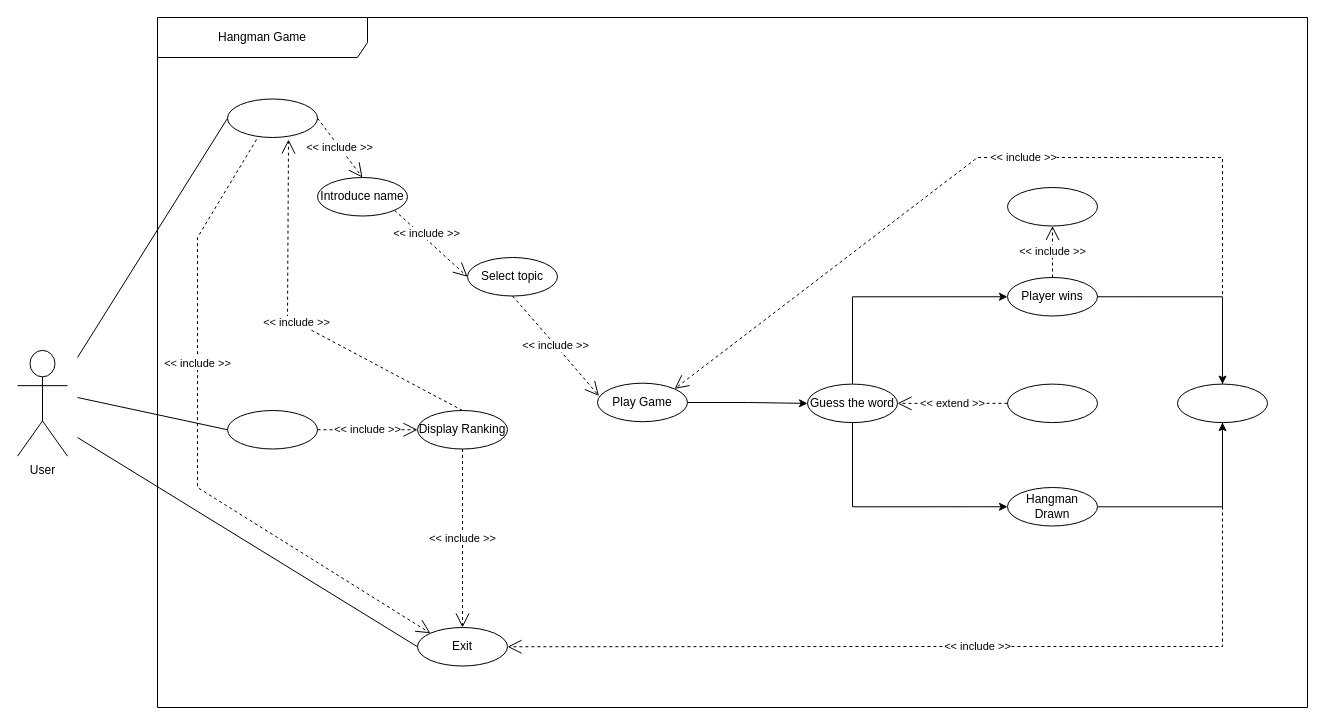
Image size: 1325x725. Some labels were removed from this diagram. Here are the shapes that lost their labels. From the top down, the box of each, then its label:
(226, 98, 318, 138): Start Game
(1006, 186, 1098, 226): Save score
(1006, 383, 1098, 423): Ask for help
(1176, 383, 1268, 423): Play again
(226, 410, 318, 449): Ranking
